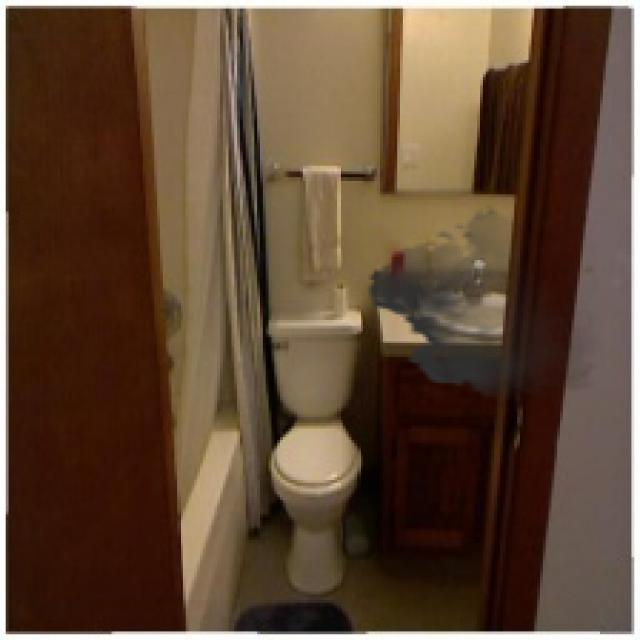Smoke: (357, 203, 609, 403)
